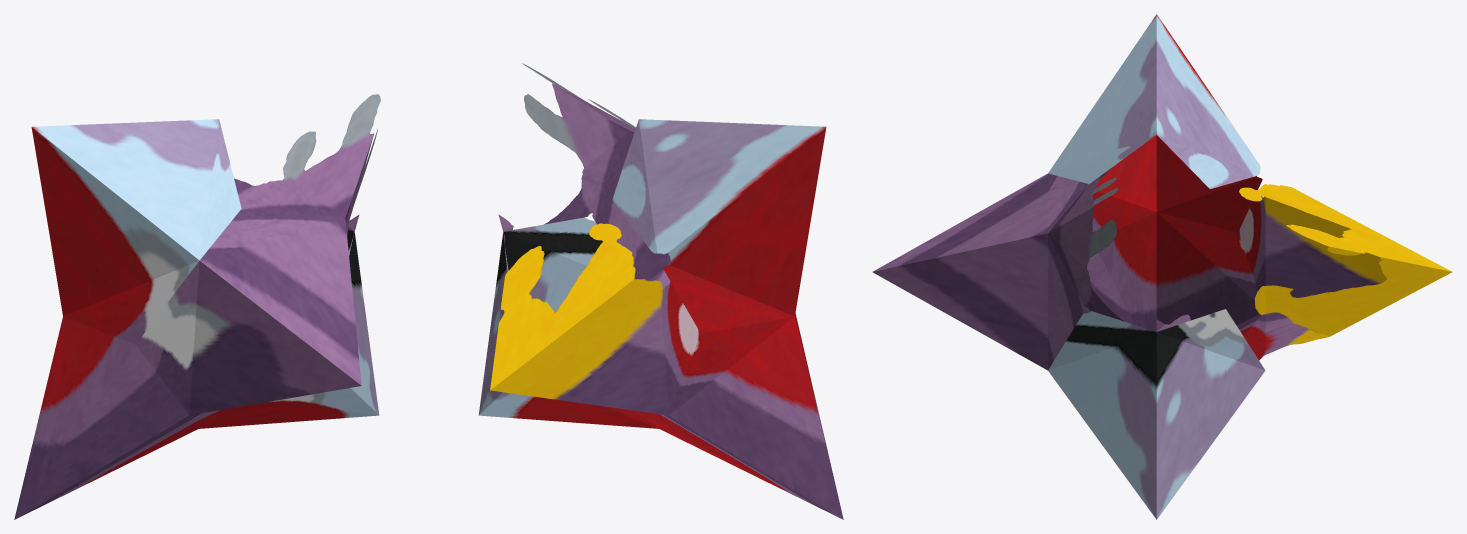
File: toge2.obj
3 renders of one model, left to right at view 1: azimuth 30°, elevation 25°; view 2: azimuth 150°, elevation 25°; view 3: azimuth 270°, elevation 25°, orthographic. The views are drawn at different scales.
Parts seen in each view (by area): view 1: Cube; view 2: Cube; view 3: Cube.
Part boxes in pixels (x1,y1,x2,y2): Cube: (14,94,380,519); Cube: (478,63,843,519); Cube: (872,14,1452,519).
Bounding box in the file's own units: 0.5443 × 0.5302 × 0.7342.
Materials: 1 (1 with a texture image).
